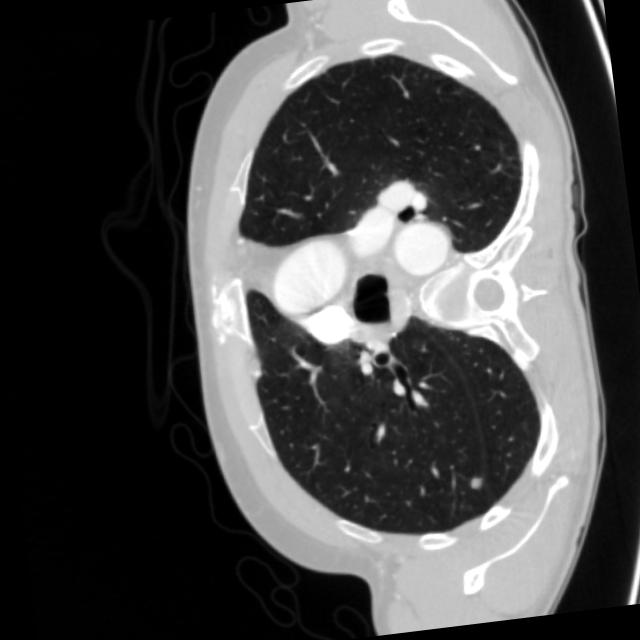nodule: (457, 467, 490, 500)
